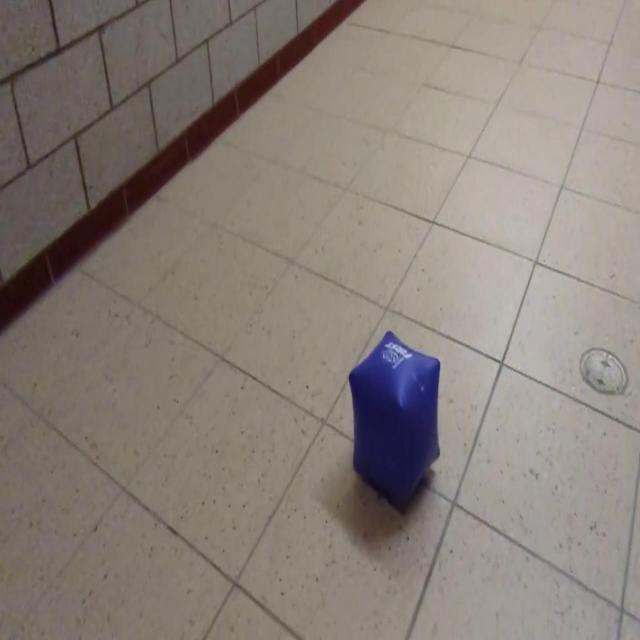frc_cube: (342, 329, 444, 508)
